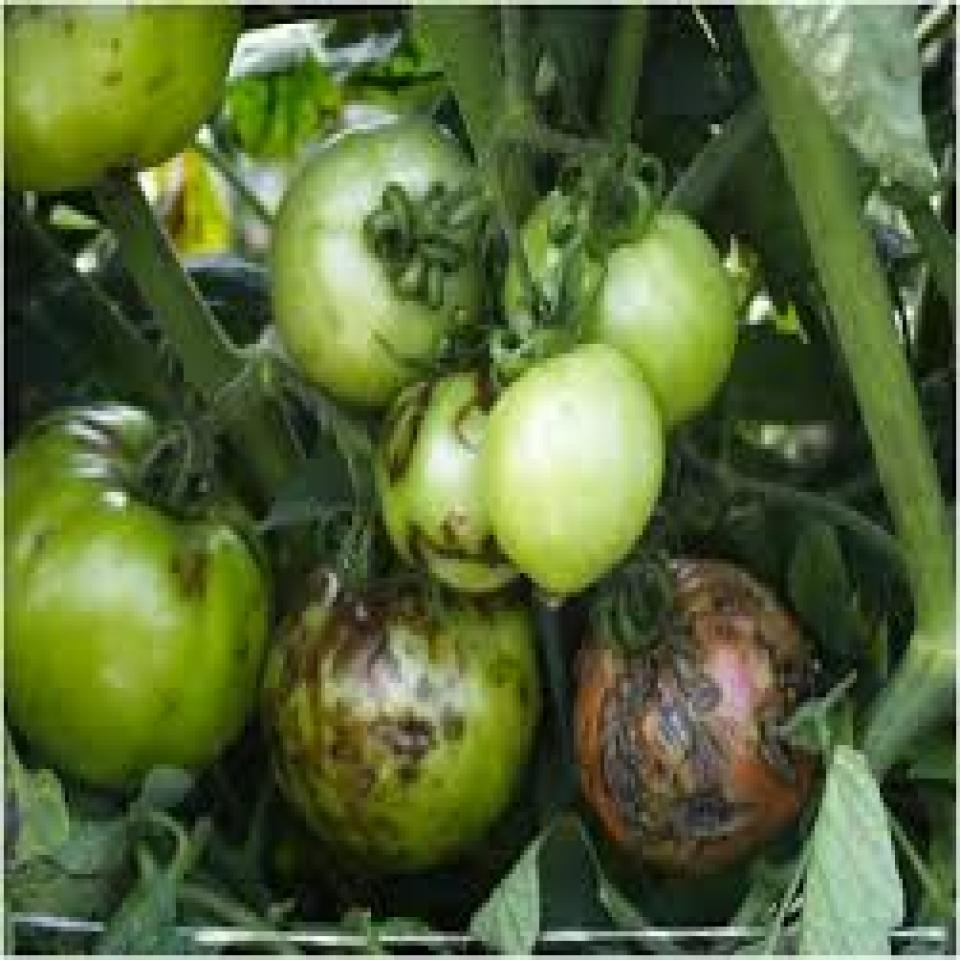Spotted wilt Virus: (2, 402, 277, 796), (255, 552, 538, 892), (574, 548, 842, 876)
